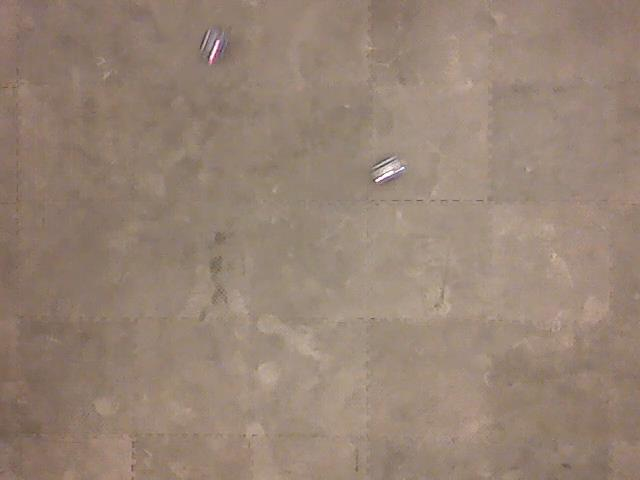Agent: (197, 26, 229, 68), (368, 153, 408, 186)
